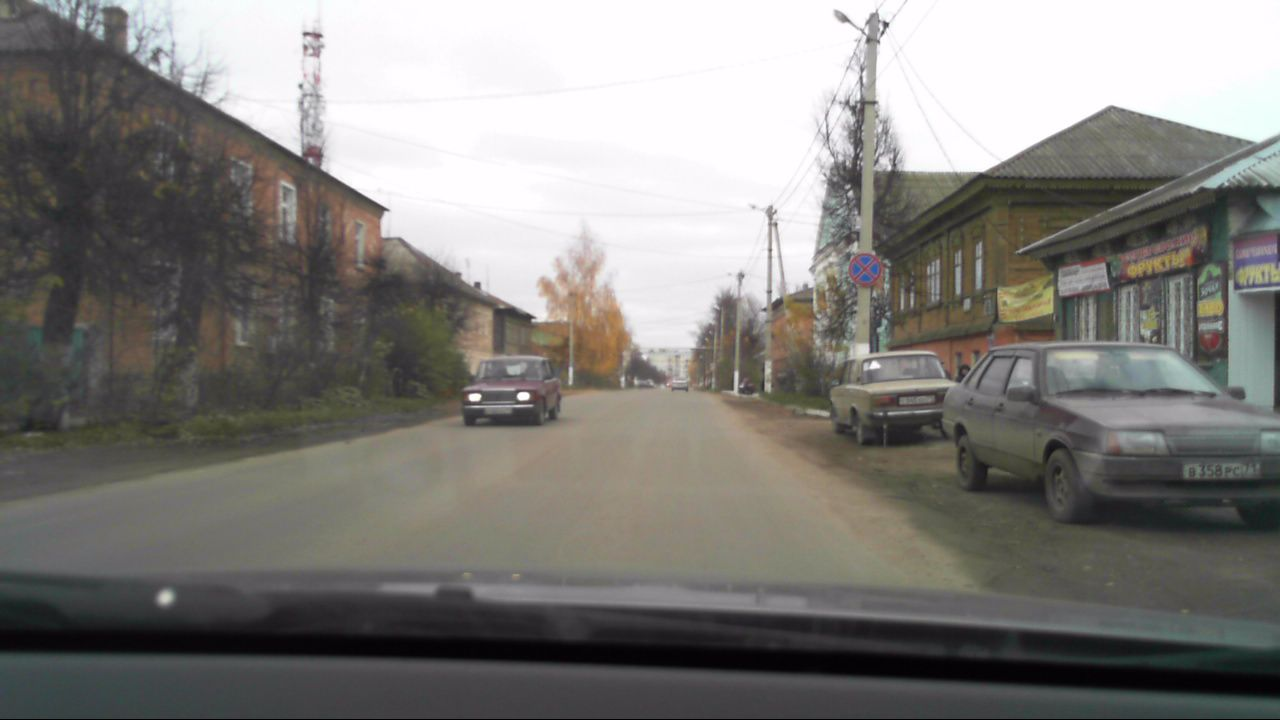No Parking: (847, 253, 883, 288)
